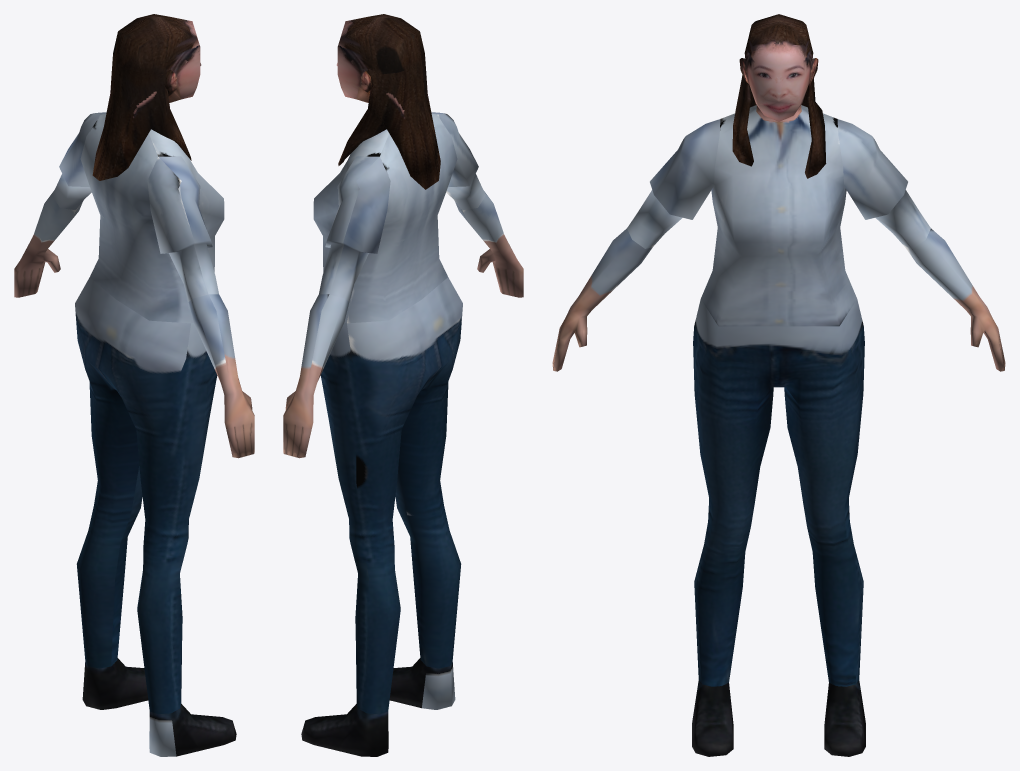
File: female_prof2.fbx
3 views of the same model, side by side, from view 1: azimuth 30°, elevation 25°; view 2: azimuth 150°, elevation 25°; view 3: azimuth 270°, elevation 25° (orthographic).
Parts seen in each view (by area): view 1: ange; view 2: ange; view 3: ange.
Part boxes in pixels (x1,y1,x2,y2): ange: (14,14,254,756); ange: (283,14,523,756); ange: (552,14,1005,756).
Bounding box in the file's own units: 67.32 × 429 × 246.
